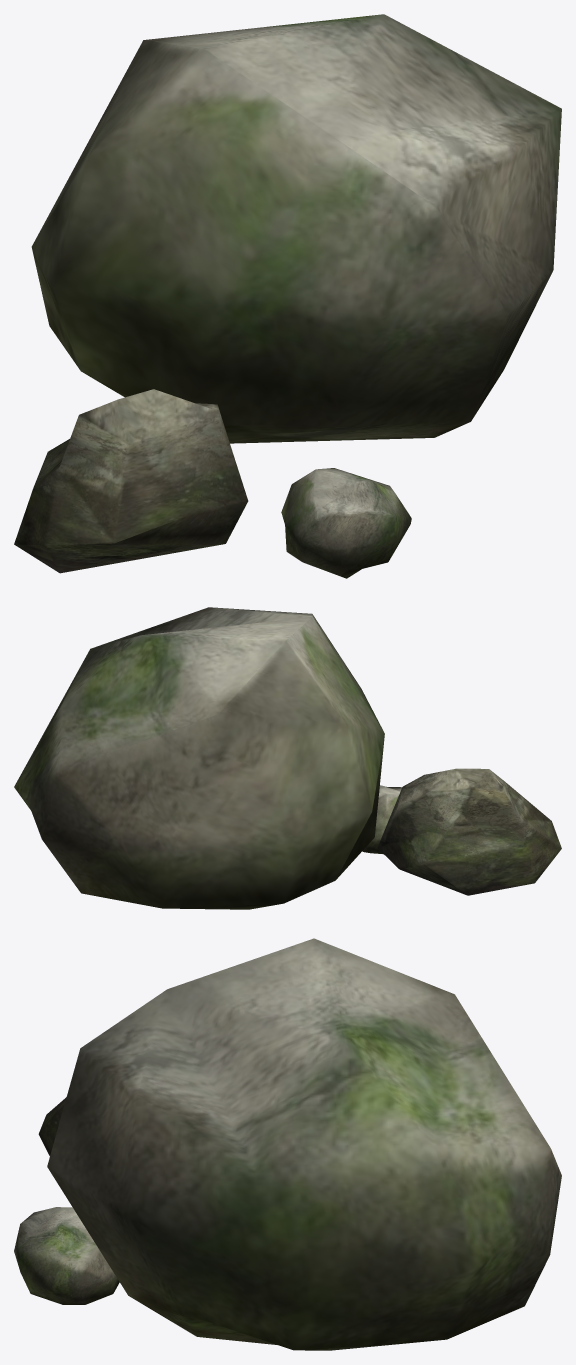
Rendered from rock_group_4_sphere.fbx.
The picture shows the model from 3 angles, top to bottom: view 1: azimuth 30°, elevation 25°; view 2: azimuth 150°, elevation 25°; view 3: azimuth 270°, elevation 25°; orthographic projection. The views are drawn at different scales.
Visible parts, largest first — view 1: rock_1, rock_2, rock_3; view 2: rock_1, rock_2, rock_3; view 3: rock_1, rock_3, rock_2.
Part boxes in pixels (x1=…): rock_1: x1=31, y1=14, x2=561, y2=443; rock_2: x1=14, y1=389, x2=248, y2=573; rock_3: x1=281, y1=468, x2=411, y2=578; rock_1: x1=14, y1=607, x2=384, y2=909; rock_2: x1=377, y1=768, x2=561, y2=895; rock_3: x1=362, y1=785, x2=402, y2=854; rock_1: x1=47, y1=938, x2=561, y2=1350; rock_3: x1=14, y1=1207, x2=119, y2=1304; rock_2: x1=38, y1=1097, x2=66, y2=1155.
Size of the model in its own units: 586 by 378 by 523.
1 material, 1 textured.
